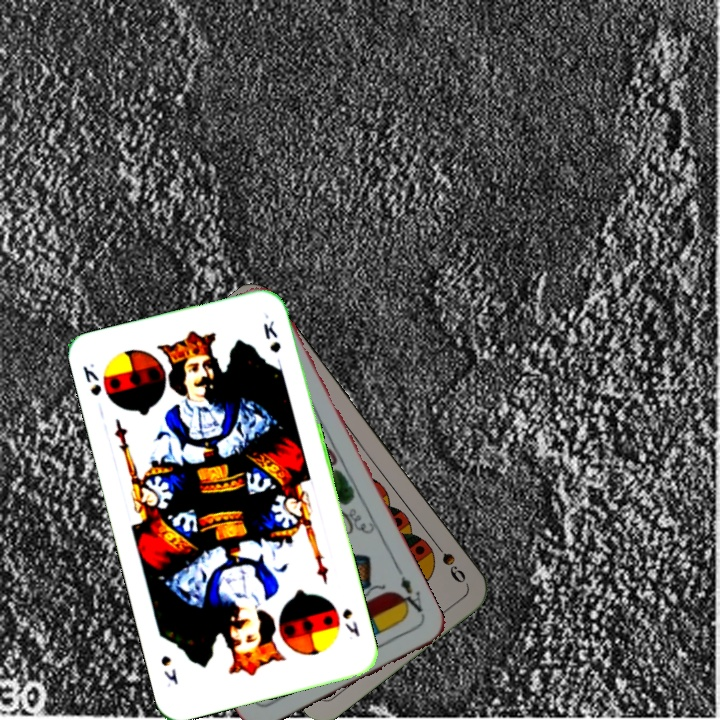EA: (393, 572, 427, 620)
S9: (428, 535, 469, 586)
SK: (78, 359, 104, 399), (338, 604, 362, 639)
